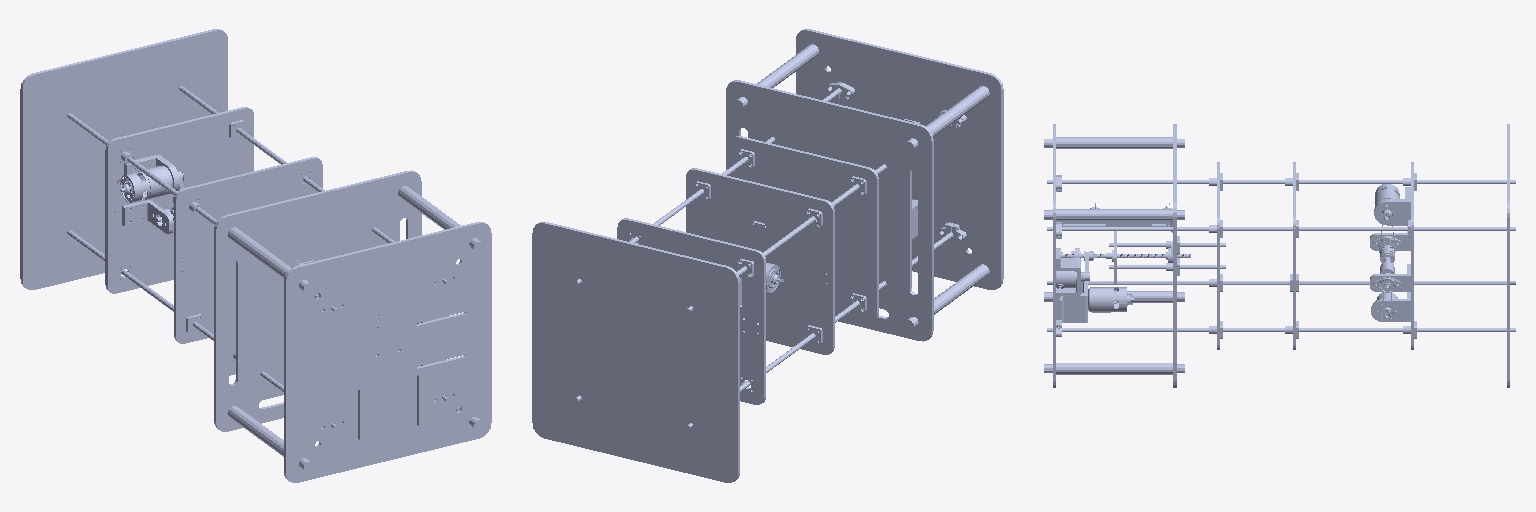
The robot description file, URDF, robot "Active_Suspension_urdf":
<?xml version="1.0" encoding="utf-8"?>
<!-- This URDF was automatically created by SolidWorks to URDF Exporter! Originally created by Stephen Brawner (brawner@gmail.com) 
     Commit Version: 1.6.0-4-g7f85cfe  Build Version: 1.6.7995.38578
     For more information, please see http://wiki.ros.org/sw_urdf_exporter -->
<robot
  name="Active_Suspension_urdf">
  <link
    name="base_link">
    <inertial>
      <origin
        xyz="0.0017852 0.28483 -0.0022167"
        rpy="0 0 0" />
      <mass
        value="2.8852" />
      <inertia
        ixx="0.031256"
        ixy="3.9095E-10"
        ixz="-3.2805E-07"
        iyy="0.042918"
        iyz="-1.1608E-08"
        izz="0.031032" />
    </inertial>
    <visual>
      <origin
        xyz="0 0 0"
        rpy="0 0 0" />
      <geometry>
        <mesh
          filename="package://Active_Suspension_urdf/meshes/base_link.STL" />
      </geometry>
      <material
        name="">
        <color
          rgba="0.79216 0.81961 0.93333 1" />
      </material>
    </visual>
    <collision>
      <origin
        xyz="0 0 0"
        rpy="0 0 0" />
      <geometry>
        <mesh
          filename="package://Active_Suspension_urdf/meshes/base_link.STL" />
      </geometry>
    </collision>
  </link>
  <link
    name="link_1">
    <inertial>
      <origin
        xyz="-5.0869E-09 -0.021265 5.7292E-05"
        rpy="0 0 0" />
      <mass
        value="0.44228" />
      <inertia
        ixx="0.0019585"
        ixy="-4.1039E-11"
        ixz="6.8978E-12"
        iyy="0.0038319"
        iyz="-3.864E-11"
        izz="0.0019942" />
    </inertial>
    <visual>
      <origin
        xyz="0 0 0"
        rpy="0 0 0" />
      <geometry>
        <mesh
          filename="package://Active_Suspension_urdf/meshes/link_1.STL" />
      </geometry>
      <material
        name="">
        <color
          rgba="0.79216 0.81961 0.93333 1" />
      </material>
    </visual>
    <collision>
      <origin
        xyz="0 0 0"
        rpy="0 0 0" />
      <geometry>
        <mesh
          filename="package://Active_Suspension_urdf/meshes/link_1.STL" />
      </geometry>
    </collision>
  </link>
  <joint
    name="joint_1"
    type="prismatic">
    <origin
      xyz="0 0.30472 0"
      rpy="0 0 0" />
    <parent
      link="base_link" />
    <child
      link="link_1" />
    <axis
      xyz="0 1 0" />
    <limit
      lower="-0.018"
      upper="-0.018"
      effort="100"
      velocity="0.3" />
  </joint>
  <link
    name="link_2">
    <inertial>
      <origin
        xyz="1.8428E-06 -0.0029708 -6.5349E-05"
        rpy="0 0 0" />
      <mass
        value="0.38813" />
      <inertia
        ixx="0.0018924"
        ixy="-3.6425E-12"
        ixz="-4.9358E-11"
        iyy="0.0037817"
        iyz="2.0856E-11"
        izz="0.0018926" />
    </inertial>
    <visual>
      <origin
        xyz="0 0 0"
        rpy="0 0 0" />
      <geometry>
        <mesh
          filename="package://Active_Suspension_urdf/meshes/link_2.STL" />
      </geometry>
      <material
        name="">
        <color
          rgba="0.79216 0.81961 0.93333 1" />
      </material>
    </visual>
    <collision>
      <origin
        xyz="0 0 0"
        rpy="0 0 0" />
      <geometry>
        <mesh
          filename="package://Active_Suspension_urdf/meshes/link_2.STL" />
      </geometry>
    </collision>
  </link>
  <joint
    name="joint_2"
    type="prismatic">
    <origin
      xyz="0 0.12957 0"
      rpy="0 0 0" />
    <parent
      link="link_1" />
    <child
      link="link_2" />
    <axis
      xyz="0 1 0" />
    <limit
      lower="-0.0175"
      upper="0.0175"
      effort="0"
      velocity="0.3" />
  </joint>
  <link
    name="link_3">
    <inertial>
      <origin
        xyz="0.0046856 -0.015674 2.5684E-05"
        rpy="0 0 0" />
      <mass
        value="0.60901" />
      <inertia
        ixx="0.0019559"
        ixy="1.7858E-05"
        ixz="-1.4489E-05"
        iyy="0.0038406"
        iyz="-1.9353E-08"
        izz="0.0019914" />
    </inertial>
    <visual>
      <origin
        xyz="0 0 0"
        rpy="0 0 0" />
      <geometry>
        <mesh
          filename="package://Active_Suspension_urdf/meshes/link_3.STL" />
      </geometry>
      <material
        name="">
        <color
          rgba="0.79216 0.81961 0.93333 1" />
      </material>
    </visual>
    <collision>
      <origin
        xyz="0 0 0"
        rpy="0 0 0" />
      <geometry>
        <mesh
          filename="package://Active_Suspension_urdf/meshes/link_3.STL" />
      </geometry>
    </collision>
  </link>
  <joint
    name="joint_3"
    type="prismatic">
    <origin
      xyz="0 0.20176 0"
      rpy="0 0 0" />
    <parent
      link="link_2" />
    <child
      link="link_3" />
    <axis
      xyz="0 1 0" />
    <limit
      lower="-0.019"
      upper="0.019"
      effort="38.3"
      velocity="0.3" />
  </joint>
</robot>

--- Render facts (derived) ---
3 views of the same robot in one strip: view 1: azimuth 30°, elevation 25°; view 2: azimuth 150°, elevation 25°; view 3: azimuth 270°, elevation 25° (orthographic).
Model Active_Suspension_urdf with 4 links and 3 joints (3 prismatic), rooted at base_link, posed all joints at 0 but 1 set to mid-range because 0 is outside their limits (joint_1 = -0.018).
Links seen in each view (by area): view 1: base_link, link_3, link_2, link_1; view 2: base_link, link_2, link_1, link_3; view 3: base_link, link_3, link_1, link_2.
Link boxes in pixels (x1,y1,x2,y2): base_link: (20,29,491,482); link_3: (105,107,253,293); link_2: (174,157,322,343); link_1: (229,260,235,375); base_link: (532,29,1003,482); link_2: (686,168,834,354); link_1: (730,136,878,322); link_3: (617,218,783,404); base_link: (1044,124,1515,387); link_3: (1370,162,1416,349); link_1: (1106,162,1225,349); link_2: (1285,162,1298,349).
Size in the robot's own frame: 0.35 by 0.805 by 0.35 metres.
4 mesh visuals loaded from 4 distinct referenced files (4 binary STL).
